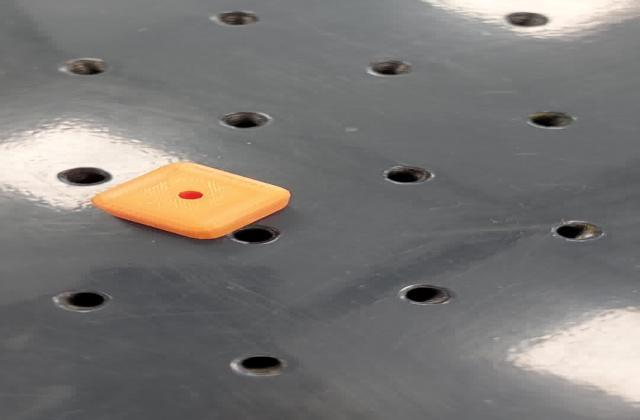cube: (82, 160, 296, 243)
